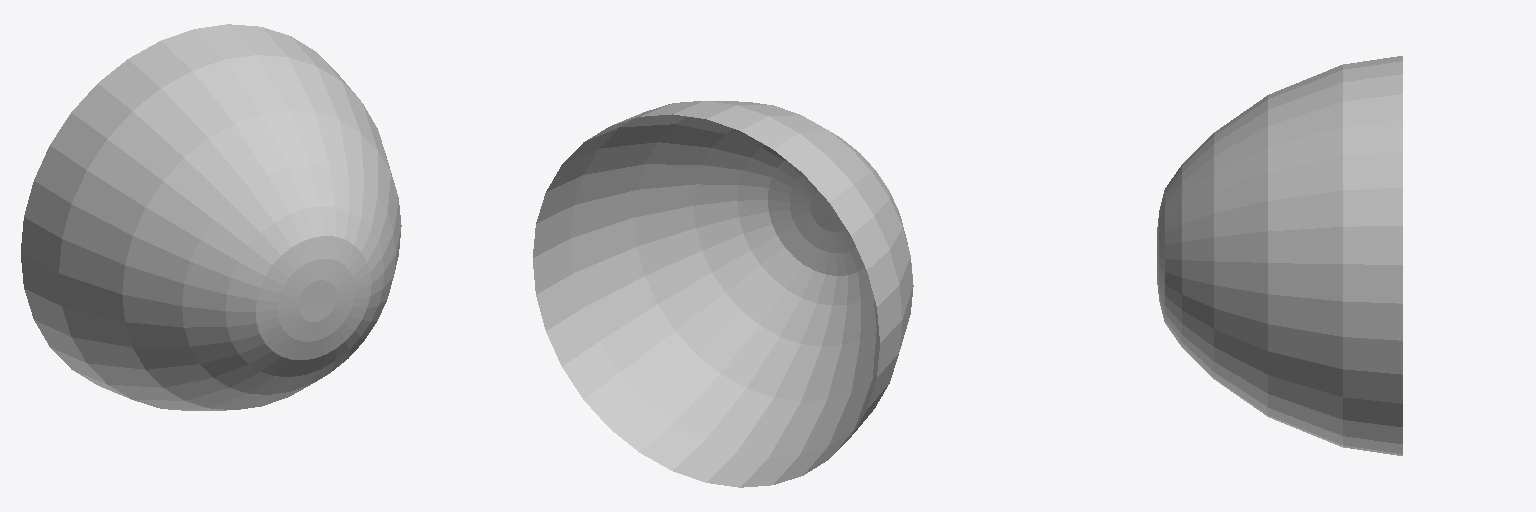
File: Thruster FX Mesh1.obj
3 views of the same model, side by side, from view 1: azimuth 30°, elevation 25°; view 2: azimuth 150°, elevation 25°; view 3: azimuth 270°, elevation 25° (orthographic).
Visible parts, largest first — view 1: Sphere; view 2: Sphere; view 3: Sphere.
Boxes of the visible parts, x1=… form: Sphere: x1=21, y1=24, x2=401, y2=410; Sphere: x1=533, y1=101, x2=913, y2=487; Sphere: x1=1157, y1=56, x2=1402, y2=455.
Bounding box in the file's own units: 3.54 × 3.54 × 2.17.